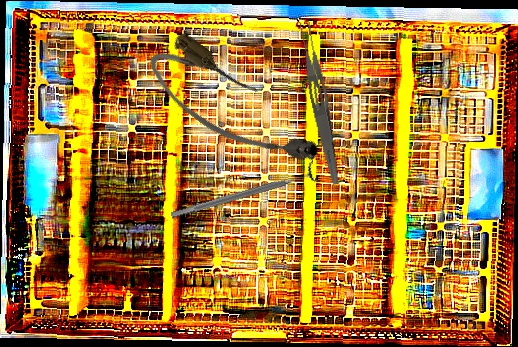Cannula: (138, 25, 330, 192)
Dressing Forceps: (294, 19, 348, 186)
Fixation Ring: (167, 159, 320, 227)
